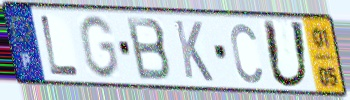B: (124, 15, 174, 83)
C: (228, 21, 264, 86)
G: (77, 13, 121, 81)
K: (172, 18, 216, 85)
L: (38, 13, 82, 78)
U: (260, 17, 313, 91)
